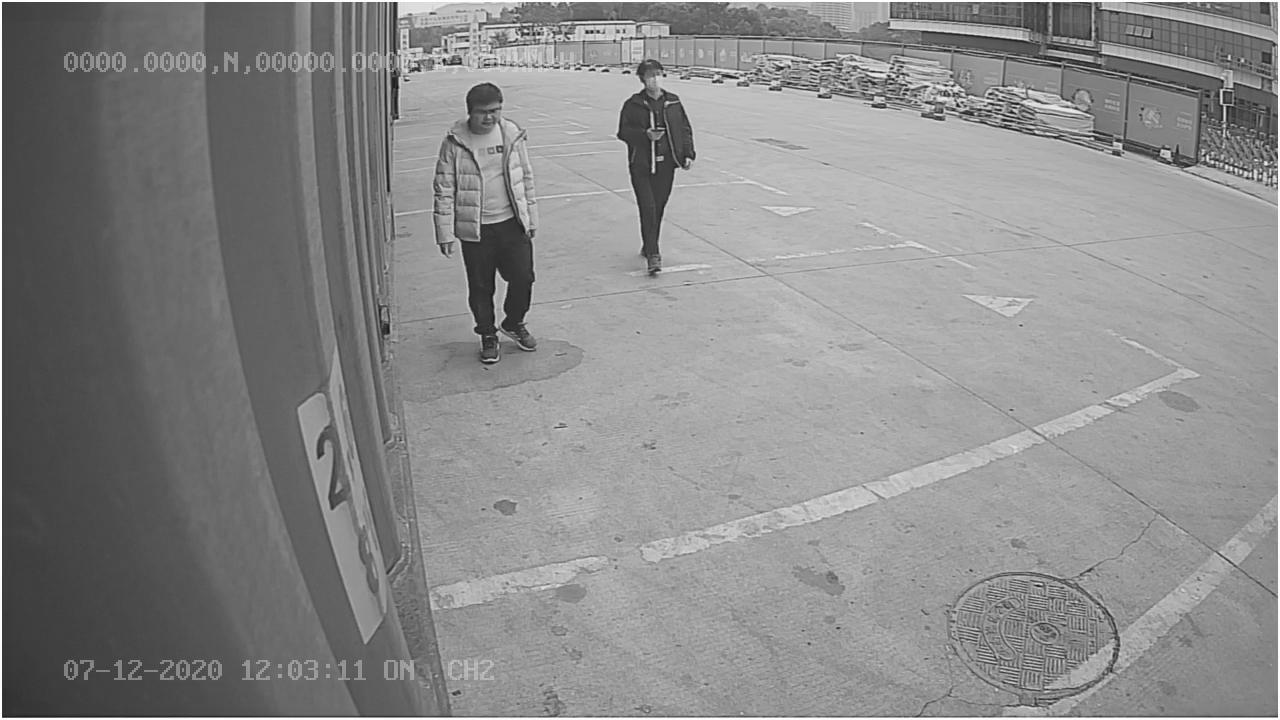person: (430, 75, 549, 362)
